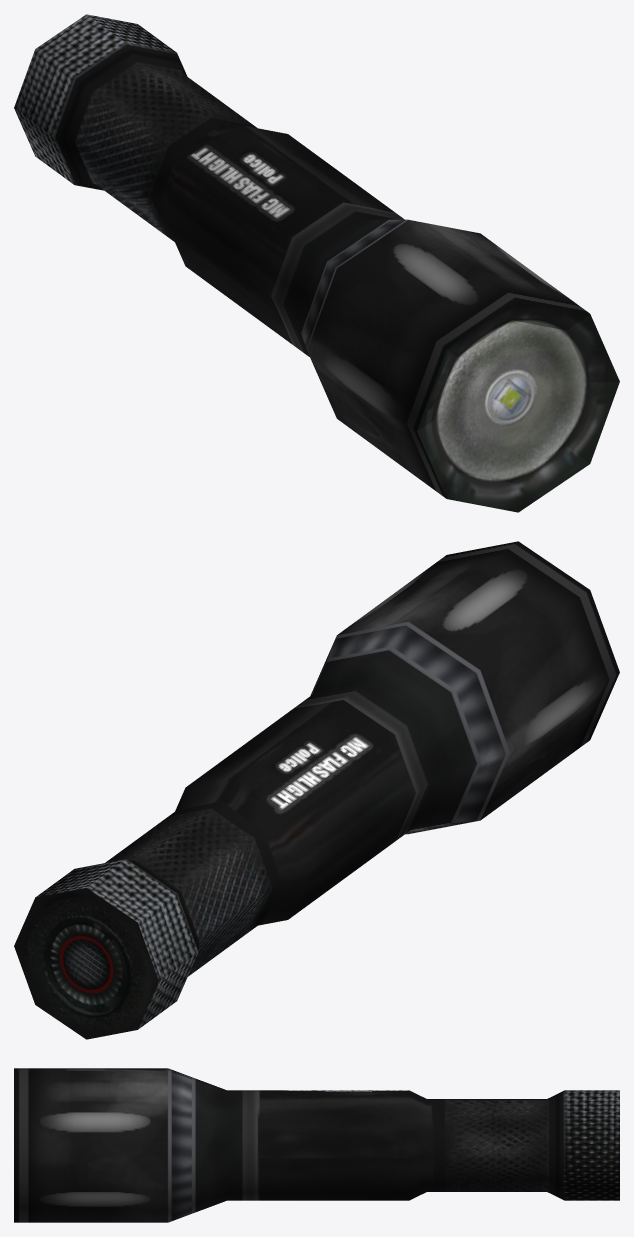
Rendered from flashlight.FBX.
The picture shows the model from 3 angles, top to bottom: view 1: azimuth 30°, elevation 25°; view 2: azimuth 150°, elevation 25°; view 3: azimuth 270°, elevation 25°; orthographic projection. The views are drawn at different scales.
Parts seen in each view (by area): view 1: flashlight; view 2: flashlight; view 3: flashlight.
Boxes of the visible parts, <box> form: flashlight: <box>14,14,619,512</box>; flashlight: <box>14,541,619,1039</box>; flashlight: <box>14,1068,619,1222</box>.
Bounding box in the file's own units: 3.18 × 11.71 × 3.18.
